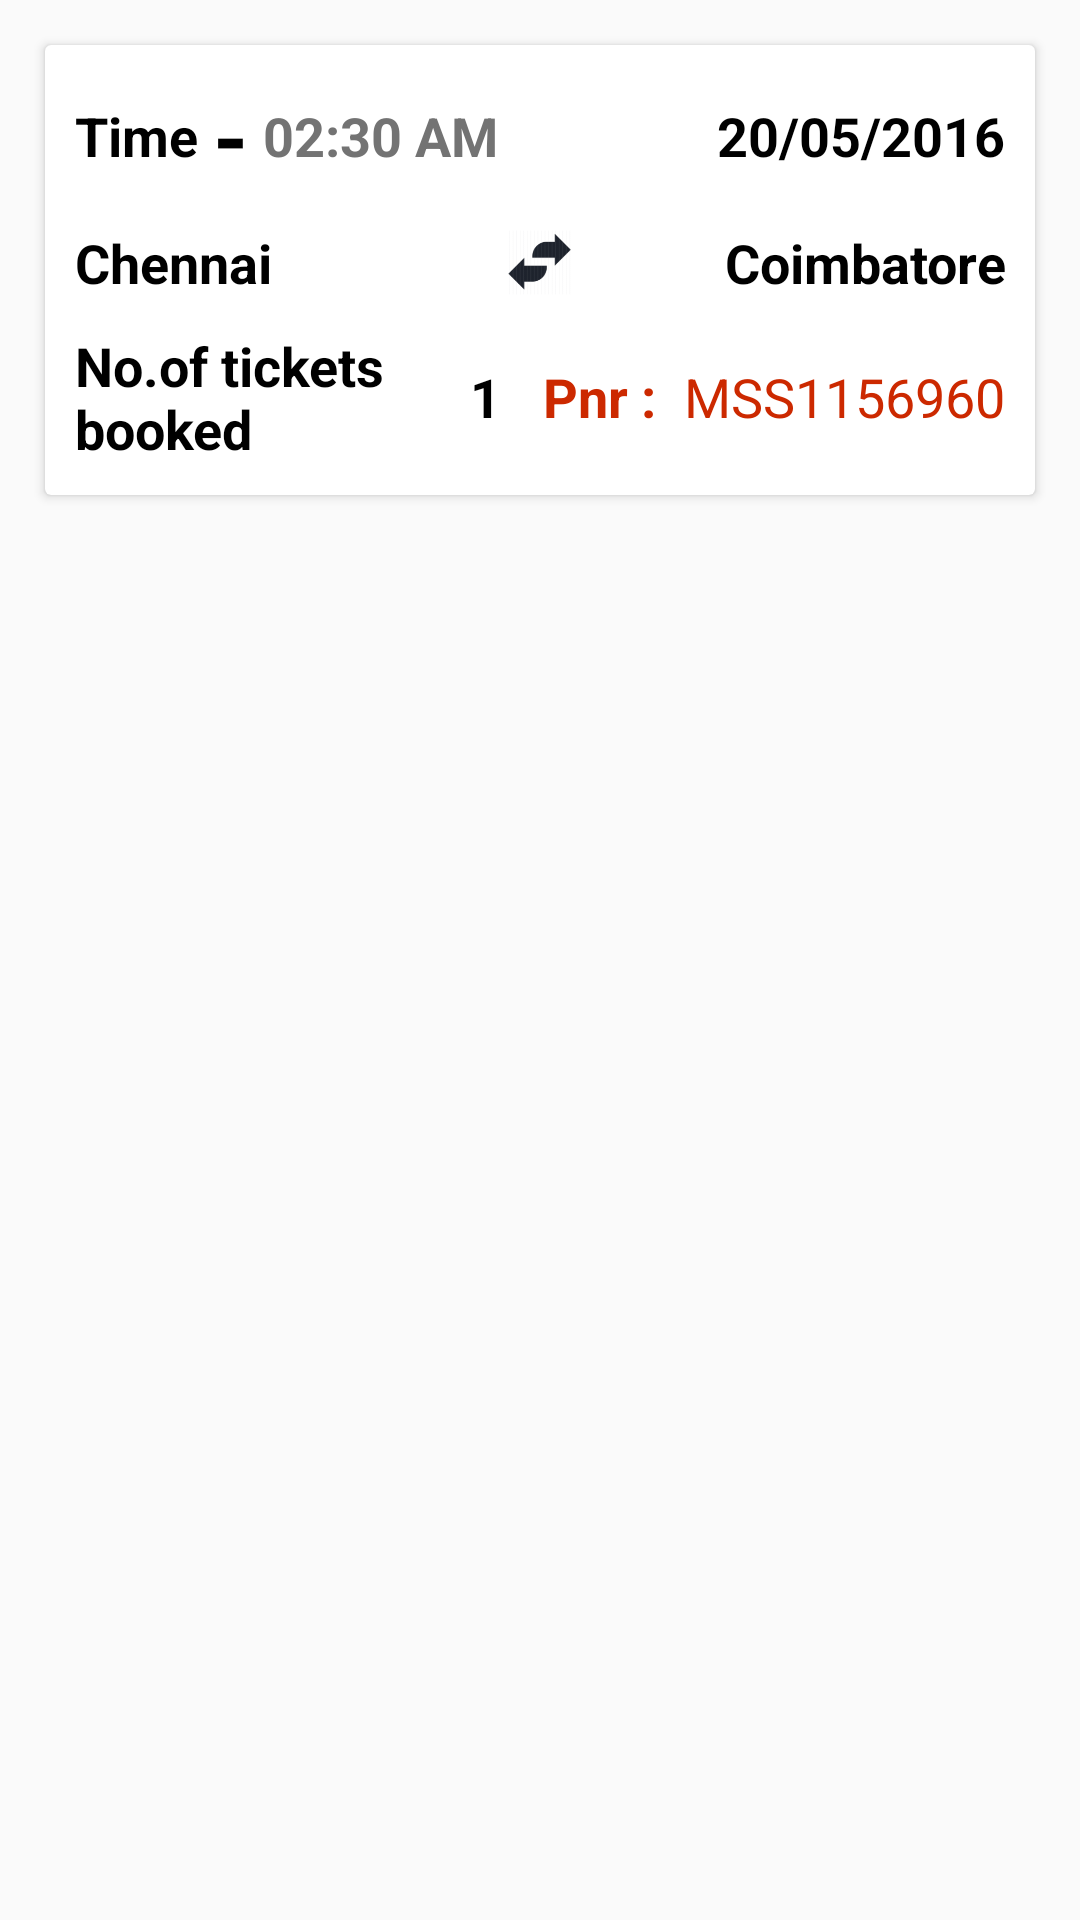

Screen size 1080 × 1920. Icon name, then its center in pixels as (x=x, y=y):
reverse: (x=539, y=262)
